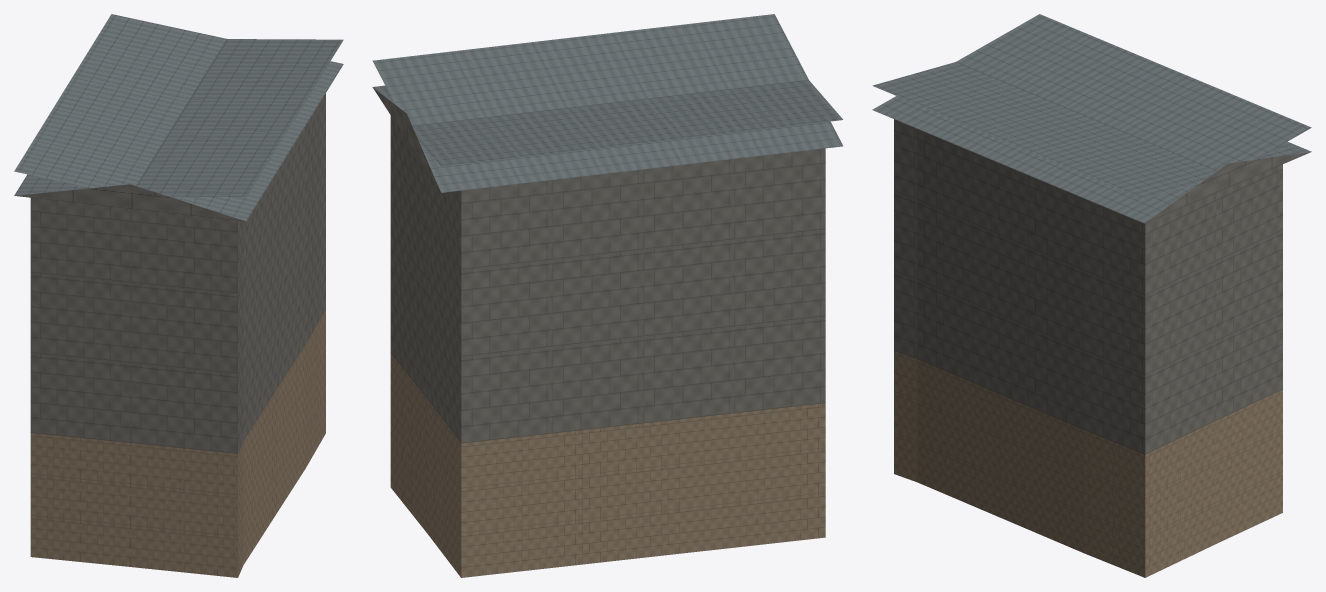
File: bld_c13_47_509.gltf
3 views of the same model, side by side, from view 1: azimuth 30°, elevation 25°; view 2: azimuth 150°, elevation 25°; view 3: azimuth 270°, elevation 25° (orthographic). The views are drawn at different scales.
Parts seen in each view (by area): view 1: bld_c13_47_509; view 2: bld_c13_47_509; view 3: bld_c13_47_509.
Boxes of the visible parts, x1,y1,x2,y2 form: bld_c13_47_509: (14,14,343,577); bld_c13_47_509: (372,14,842,577); bld_c13_47_509: (872,14,1311,577).
Bounding box in the file's own units: 16.44 × 16 × 16.49.
4 materials, 4 textured.
